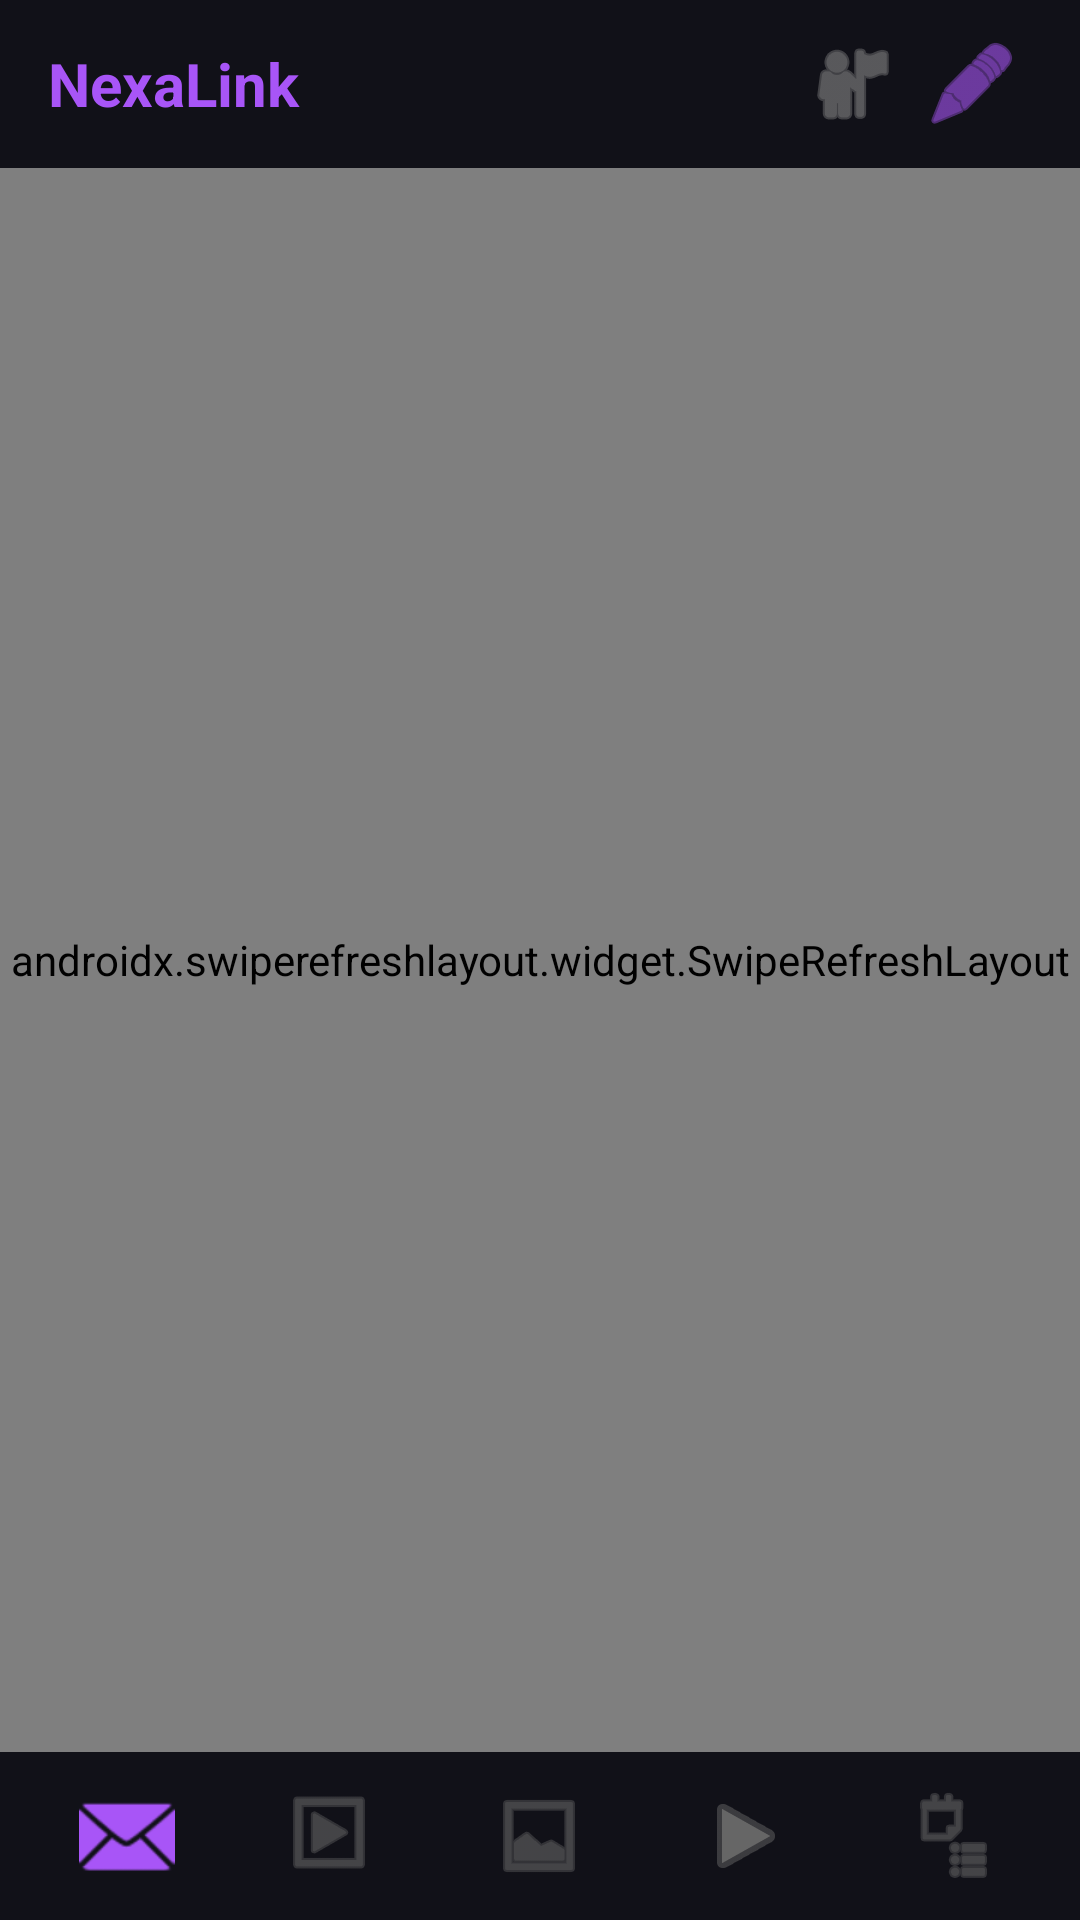

Screen size 1080 x 1920. Icon name, then its center in pixels as (x=x, y=y):
Chats: (x=127, y=1837)
New Chat: (x=971, y=83)
